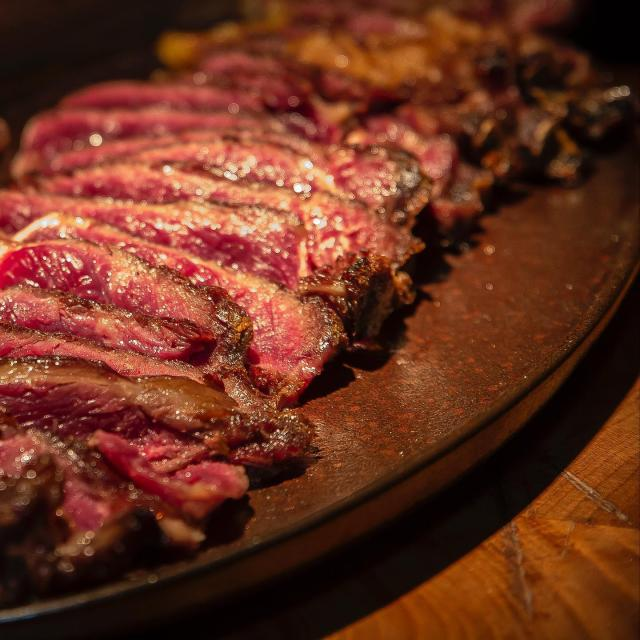carne de res: (1, 80, 521, 617)
